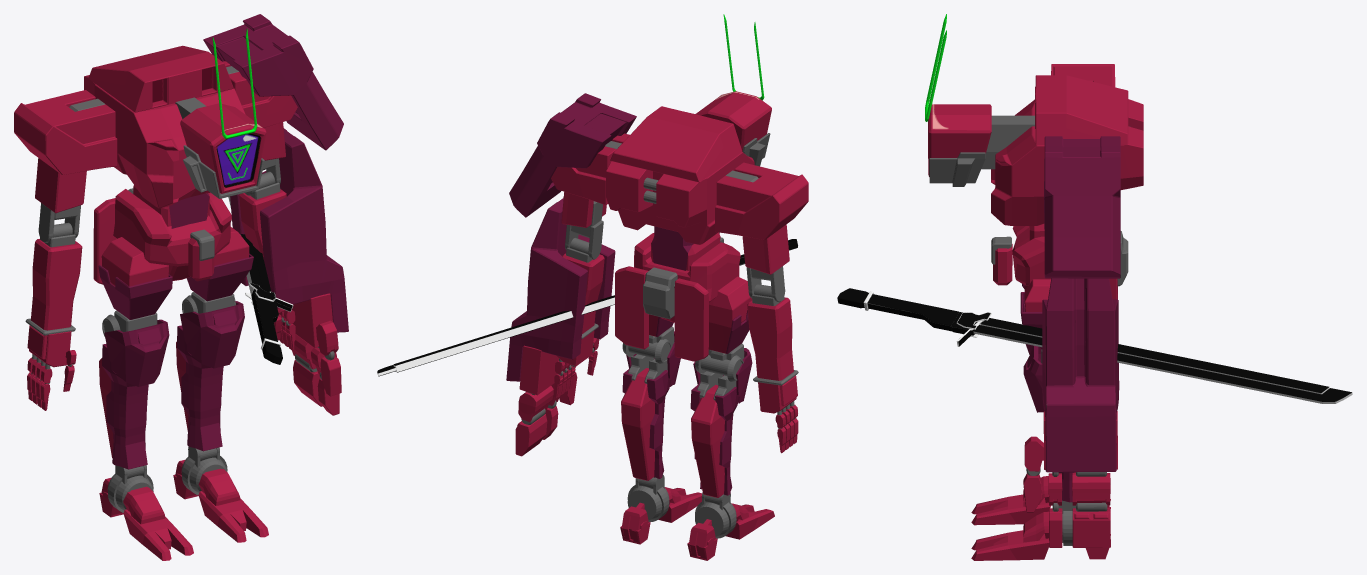
Rendered from BossColorWithoutShadow.fbx.
3 views of the same model, side by side, from view 1: azimuth 30°, elevation 25°; view 2: azimuth 150°, elevation 25°; view 3: azimuth 270°, elevation 25° (orthographic). The views are drawn at different scales.
Visible parts, largest first — view 1: Cube.038, Cube.017, Cube.007, Cube.001, Cube.022, Cube.003, Cylinder, Cube.006, Cube, Cube.035, Cube.018, Circle.003 (+25 smaller); view 2: Cube.038, Cube.017, Cube.003, Cube.007, Cube.025, Cube.027, Cube.035, Cube.047, Cube.022, Cube.006, Cube.031, Cube.001 (+21 smaller); view 3: Cube.038, Cube.007, Cube.042, Cube.003, Cube.001, Circle.003, Cube, Cube.047, Cube.006, Cube.010, Cube.040, Cube.002 (+7 smaller).
Part boxes in pixels (x1,y1,x2,y2): Cube.038: [230, 128, 348, 332]; Cube.017: [14, 61, 297, 174]; Cube.007: [203, 14, 343, 150]; Cube.001: [94, 84, 245, 208]; Cube.022: [102, 325, 223, 469]; Cube.003: [88, 45, 233, 112]; Cylinder: [104, 301, 244, 386]; Cube.006: [113, 189, 231, 280]; Cube: [180, 103, 266, 193]; Cube.035: [31, 189, 286, 330]; Cube.018: [98, 253, 253, 319]; Circle.003: [123, 491, 268, 560]; Cube.038: [506, 197, 615, 381]; Cube.017: [551, 133, 808, 239]; Cube.003: [610, 106, 742, 182]; Cube.007: [509, 93, 636, 217]; Cube.025: [621, 368, 724, 497]; Cube.027: [615, 266, 708, 361]; Cube.035: [562, 253, 793, 380]; Cube.047: [606, 161, 706, 227]; Cube.022: [622, 368, 738, 495]; Cube.006: [634, 233, 740, 322]; Cube.031: [561, 192, 789, 274]; Cube.001: [618, 152, 754, 244]; Cube.038: [1042, 278, 1119, 472]; Cube.007: [1044, 136, 1120, 278]; Cube.042: [837, 288, 1352, 403]; Cube.003: [1035, 75, 1128, 144]; Cube.001: [991, 99, 1044, 225]; Circle.003: [971, 494, 1050, 560]; Cube: [928, 104, 991, 176]; Cube.047: [1120, 99, 1143, 189]; Cube.006: [1012, 226, 1051, 285]; Cube.010: [929, 152, 985, 186]; Cube.040: [1072, 508, 1110, 547]; Cube.002: [981, 115, 1034, 169].
Size of the model in its own units: 726 by 1110 by 1007.
4 materials, 4 textured.
